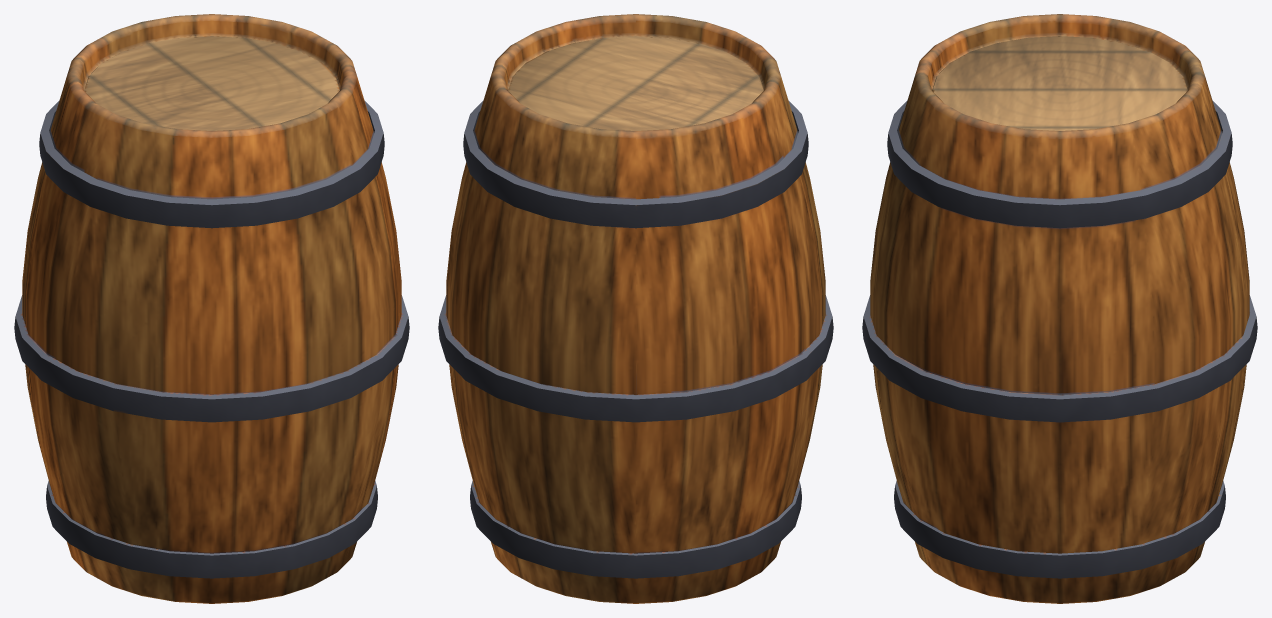
File: barrel.glb
3 renders of one model, left to right at view 1: azimuth 30°, elevation 25°; view 2: azimuth 150°, elevation 25°; view 3: azimuth 270°, elevation 25°, orthographic.
Visible parts, largest first — view 1: barrel_game; view 2: barrel_game; view 3: barrel_game.
Boxes of the visible parts, x1,y1,x2,y2 form: barrel_game: (14,14,409,603); barrel_game: (438,14,833,603); barrel_game: (862,14,1257,603).
Size of the model in its own units: 0.6847 by 0.9 by 0.6847.
1 material, 1 textured.
